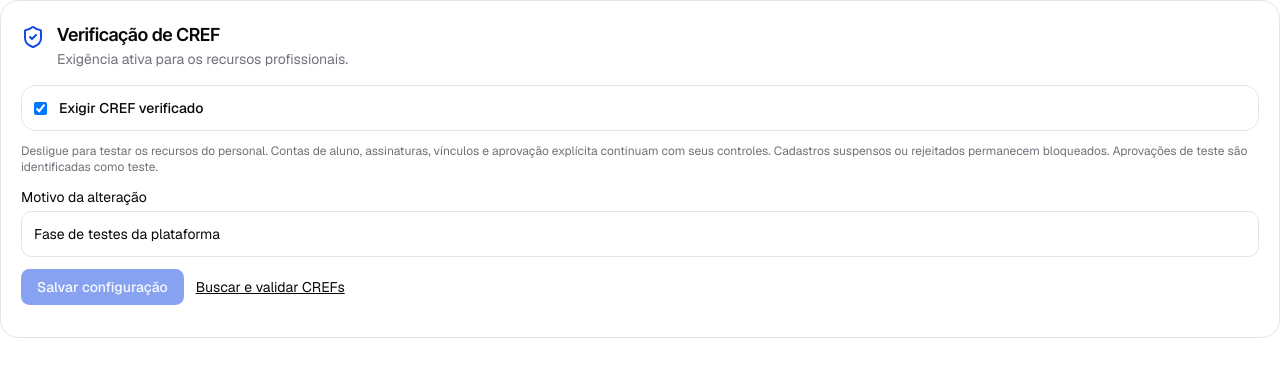
Test: Admin CREF controls › only saves the test flag after the admin submits the change
The width and height of the screenshot is (1280, 375).
Click the switch: [40, 108] box top-left (34, 102), bottom-right (47, 114)
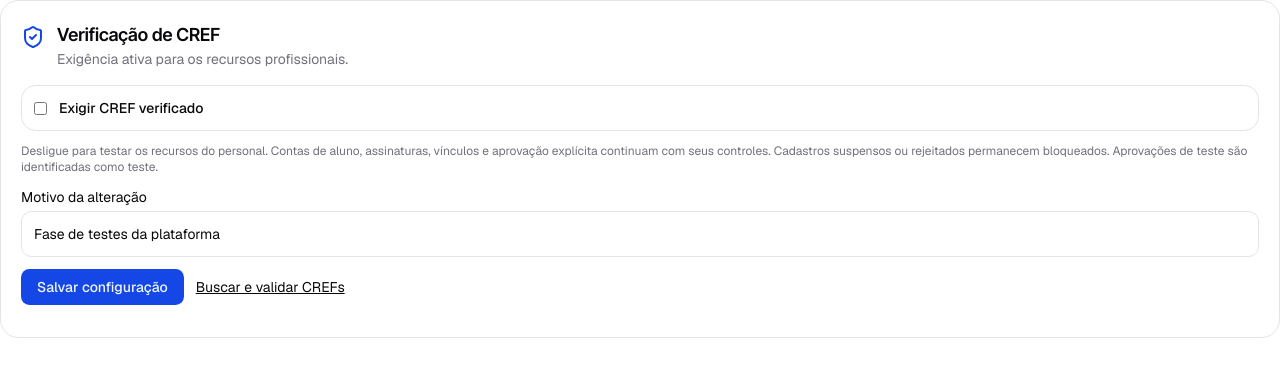
Click the button "Salvar configuração": [102, 287] box top-left (21, 269), bottom-right (184, 305)
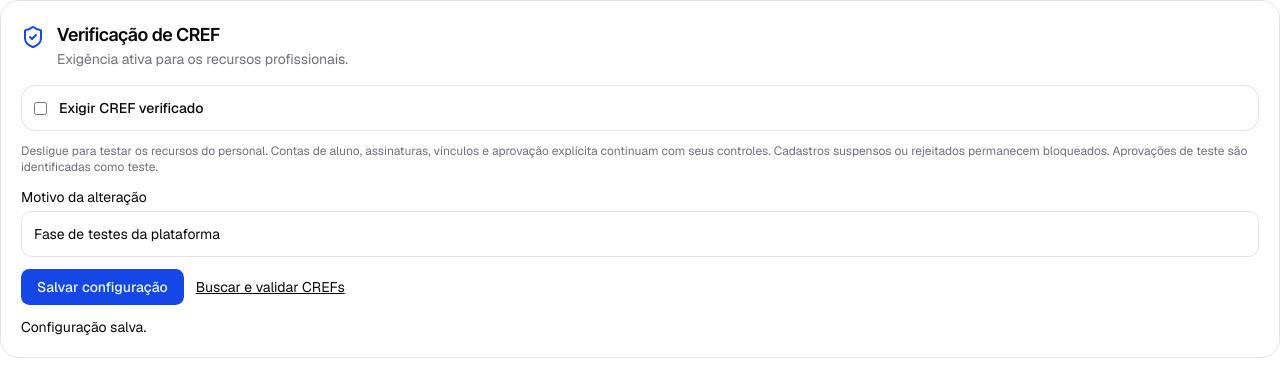
Expected: the text "Configuração salva." is shown, top-left (21, 318), bottom-right (146, 336)
